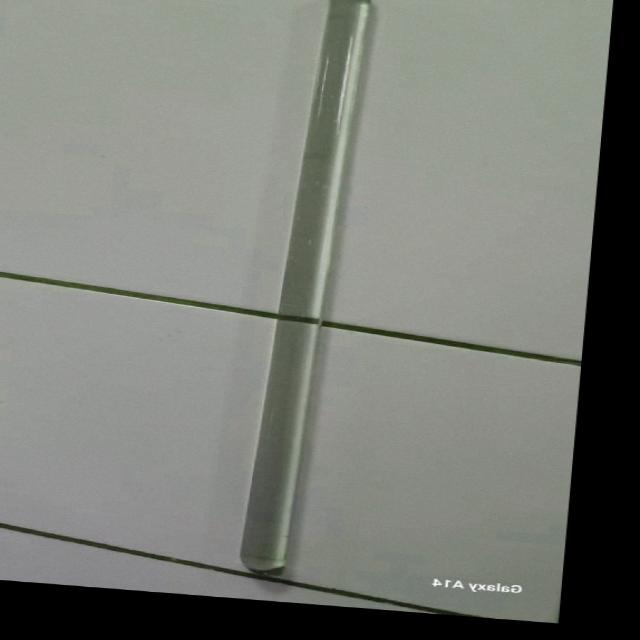Stirrer: (238, 0, 382, 591)
